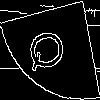Q: (25, 25, 74, 74)
